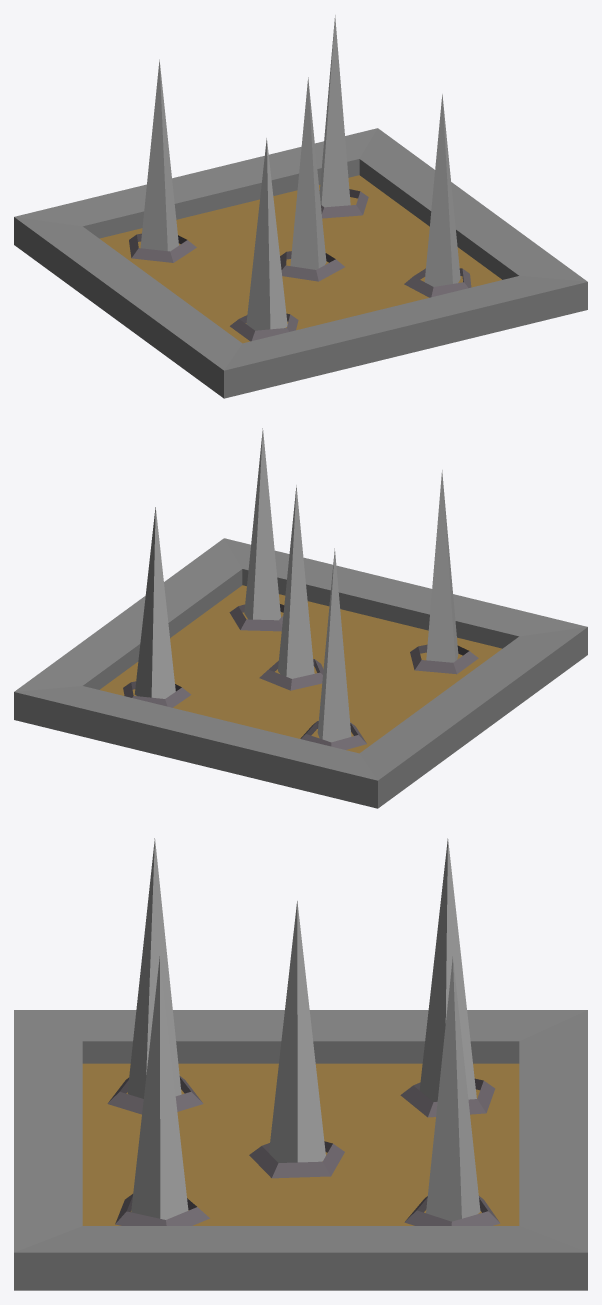
File: trap.fbx
The picture shows the model from 3 angles, top to bottom: view 1: azimuth 30°, elevation 25°; view 2: azimuth 150°, elevation 25°; view 3: azimuth 270°, elevation 25°; orthographic projection. The views are drawn at different scales.
Visible parts, largest first — view 1: Trap; view 2: Trap; view 3: Trap.
Part boxes in pixels (x1,y1,x2,y2): Trap: (14,15,587,398); Trap: (14,428,587,808); Trap: (14,838,587,1290).
Bounding box in the file's own units: 200 × 106 × 200.
